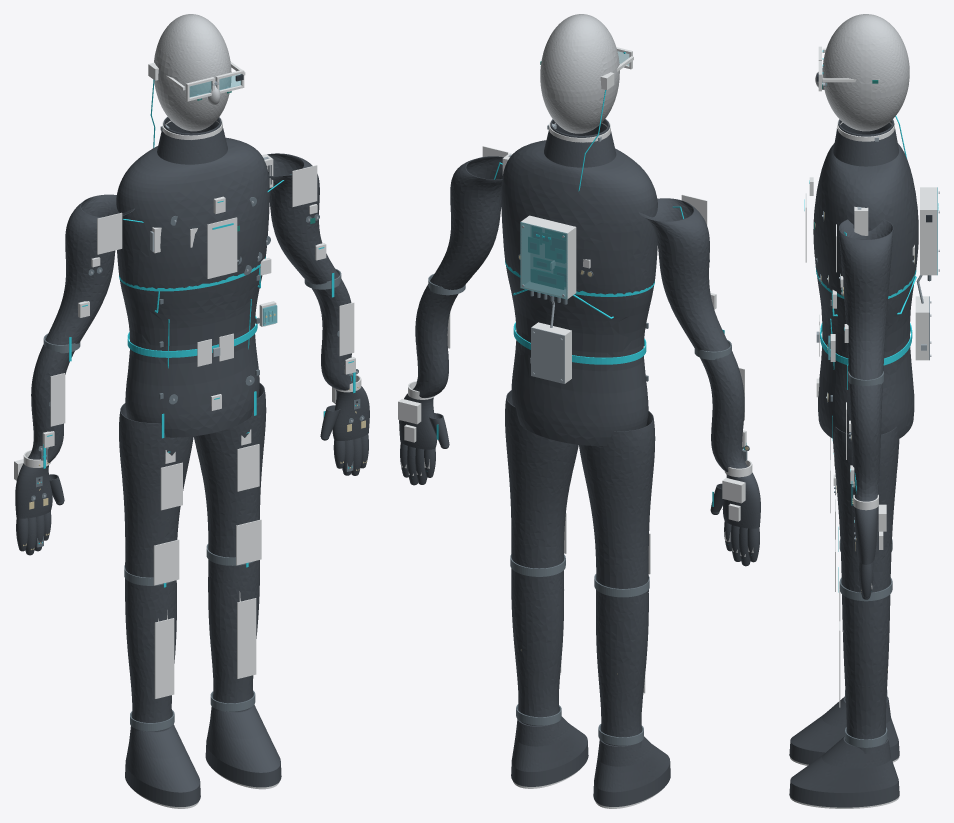
The model's file is HaloCrew_BioSuit_Web.glb.
3 views of the same model, side by side, from view 1: azimuth 30°, elevation 25°; view 2: azimuth 150°, elevation 25°; view 3: azimuth 270°, elevation 25° (orthographic). The views are drawn at different scales.
Parts seen in each view (by area): view 1: Torso_Textile, Right_Leg_Textile, Left_Leg_Textile, Right_Arm_Textile, Left_Arm_Textile, Reference_Head_Component, Left_Boot, Right_Boot, Neck_Collar, Sternum_Service_Panel, Right_Shin_Panel, Right_Glove_Palm (+11 smaller); view 2: Torso_Textile, Right_Leg_Textile, Left_Leg_Textile, Right_Arm_Textile, Left_Arm_Textile, Reference_Head_Component, Left_Boot, Right_Boot, ECU_Removable_Cover, ECU_Serviceable_Enclosure, Neck_Collar, Battery_Service_Lid (+3 smaller); view 3: Torso_Textile, Left_Leg_Textile, Left_Arm_Textile, Reference_Head_Component, Left_Boot, Right_Boot, Neck_Collar, ECU_Serviceable_Enclosure, Left_Glove_Palm, Battery_Compartment, Abdominal_Respiration_Band, Left_Knee_FlexZone (+4 smaller).
Boxes of the visible parts, left/top/right/bottom form: Torso_Textile: left=116, top=137, right=269, bottom=437; Right_Leg_Textile: left=119, top=403, right=193, bottom=733; Left_Leg_Textile: left=193, top=383, right=266, bottom=713; Right_Arm_Textile: left=28, top=194, right=134, bottom=462; Left_Arm_Textile: left=267, top=153, right=356, bottom=390; Reference_Head_Component: left=154, top=14, right=231, bottom=131; Left_Boot: left=205, top=704, right=281, bottom=787; Right_Boot: left=125, top=724, right=200, bottom=806; Neck_Collar: left=157, top=117, right=227, bottom=164; Sternum_Service_Panel: left=207, top=217, right=237, bottom=278; Right_Shin_Panel: left=154, top=618, right=174, bottom=698; Right_Glove_Palm: left=15, top=463, right=52, bottom=518; Torso_Textile: left=501, top=140, right=657, bottom=445; Right_Leg_Textile: left=579, top=411, right=655, bottom=750; Left_Leg_Textile: left=505, top=390, right=578, bottom=730; Right_Arm_Textile: left=639, top=198, right=747, bottom=471; Left_Arm_Textile: left=412, top=156, right=503, bottom=397; Reference_Head_Component: left=540, top=14, right=619, bottom=133; Left_Boot: left=511, top=716, right=588, bottom=786; Right_Boot: left=593, top=736, right=670, bottom=806; ECU_Removable_Cover: left=520, top=222, right=567, bottom=299; ECU_Serviceable_Enclosure: left=520, top=215, right=576, bottom=299; Neck_Collar: left=544, top=119, right=616, bottom=167; Battery_Service_Lid: left=531, top=327, right=564, bottom=383; Torso_Textile: left=813, top=143, right=918, bottom=438; Left_Leg_Textile: left=833, top=426, right=899, bottom=753; Left_Arm_Textile: left=839, top=219, right=893, bottom=501; Reference_Head_Component: left=822, top=14, right=909, bottom=131; Left_Boot: left=789, top=736, right=899, bottom=807; Right_Boot: left=789, top=696, right=899, bottom=764; Neck_Collar: left=833, top=119, right=898, bottom=166; ECU_Serviceable_Enclosure: left=920, top=187, right=937, bottom=275; Left_Glove_Palm: left=854, top=507, right=877, bottom=564; Battery_Compartment: left=915, top=296, right=928, bottom=360; Abdominal_Respiration_Band: left=820, top=323, right=912, bottom=365; Left_Knee_FlexZone: left=839, top=577, right=892, bottom=601.
Bounding box in the file's own units: 0.8579 × 1.75 × 0.313.
